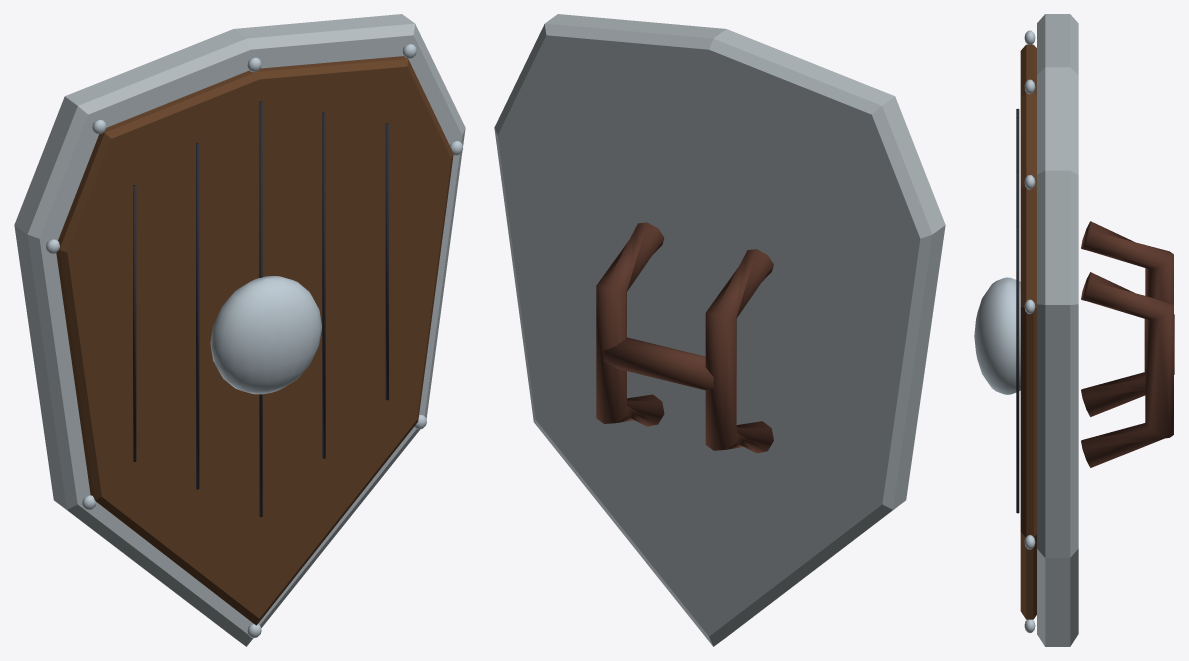
File: wooden-shield-standard.glb
3 views of the same model, side by side, from view 1: azimuth 30°, elevation 25°; view 2: azimuth 150°, elevation 25°; view 3: azimuth 270°, elevation 25° (orthographic). The views are drawn at different scales.
Parts seen in each view (by area): view 1: wooden-shield__standard; view 2: wooden-shield__standard; view 3: wooden-shield__standard.
Boxes of the visible parts, x1,y1,x2,y2 form: wooden-shield__standard: [14, 14, 465, 646]; wooden-shield__standard: [494, 14, 945, 646]; wooden-shield__standard: [974, 14, 1174, 646].
Size of the model in its own units: 0.52 by 0.69 by 0.2162.
